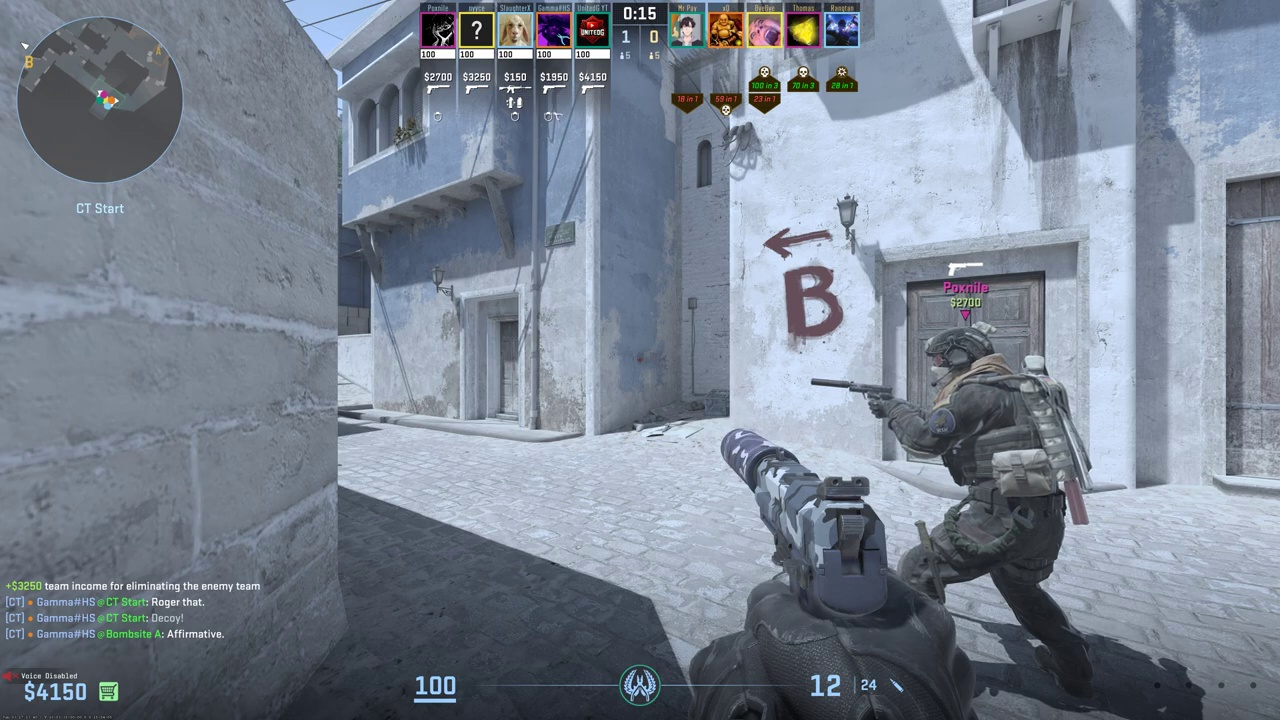CT: (894, 326, 1082, 707)
